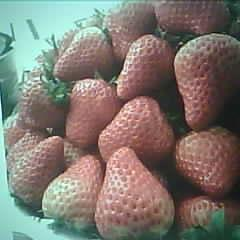straw-ripe: (96, 150, 176, 239), (174, 34, 239, 132), (98, 97, 173, 161), (174, 127, 240, 196), (44, 155, 103, 228), (10, 136, 67, 206), (64, 78, 120, 147), (117, 35, 172, 99), (53, 28, 112, 78)
